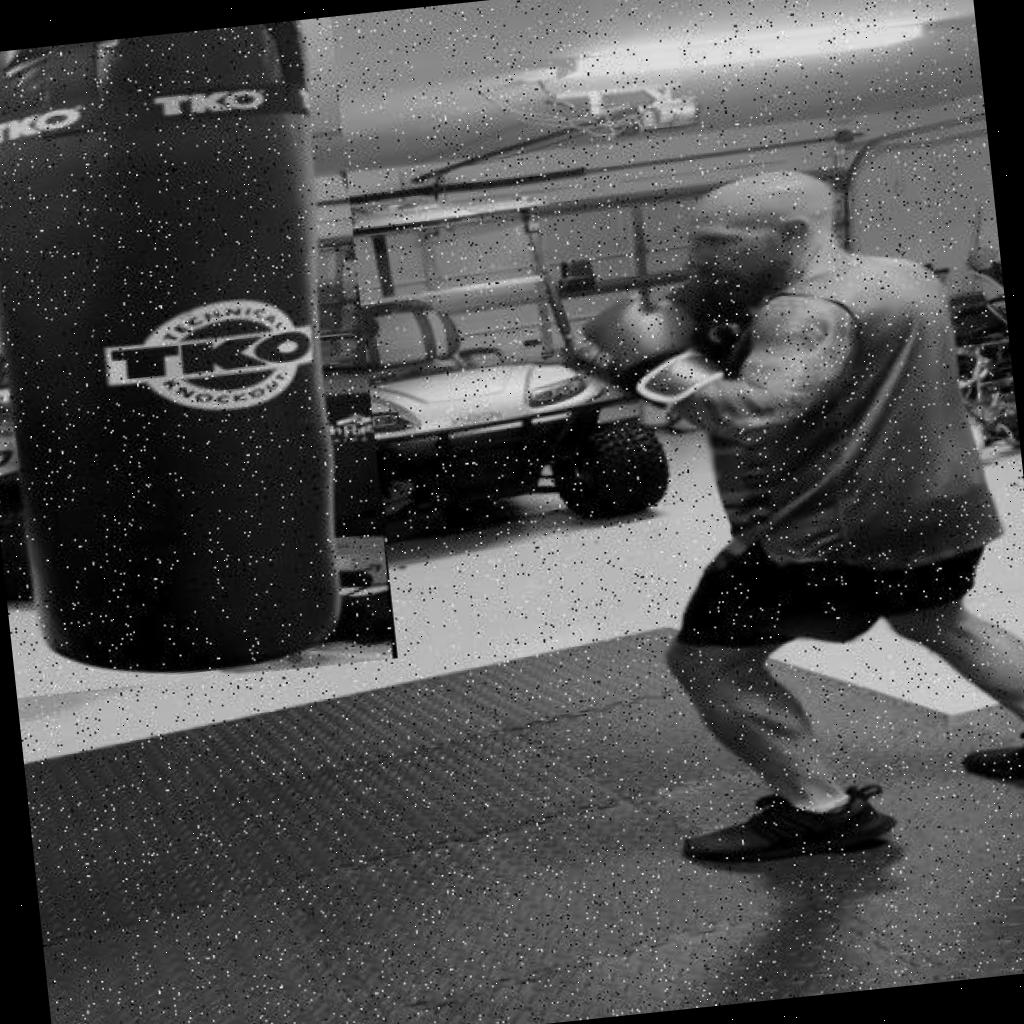bag: (0, 16, 397, 697)
